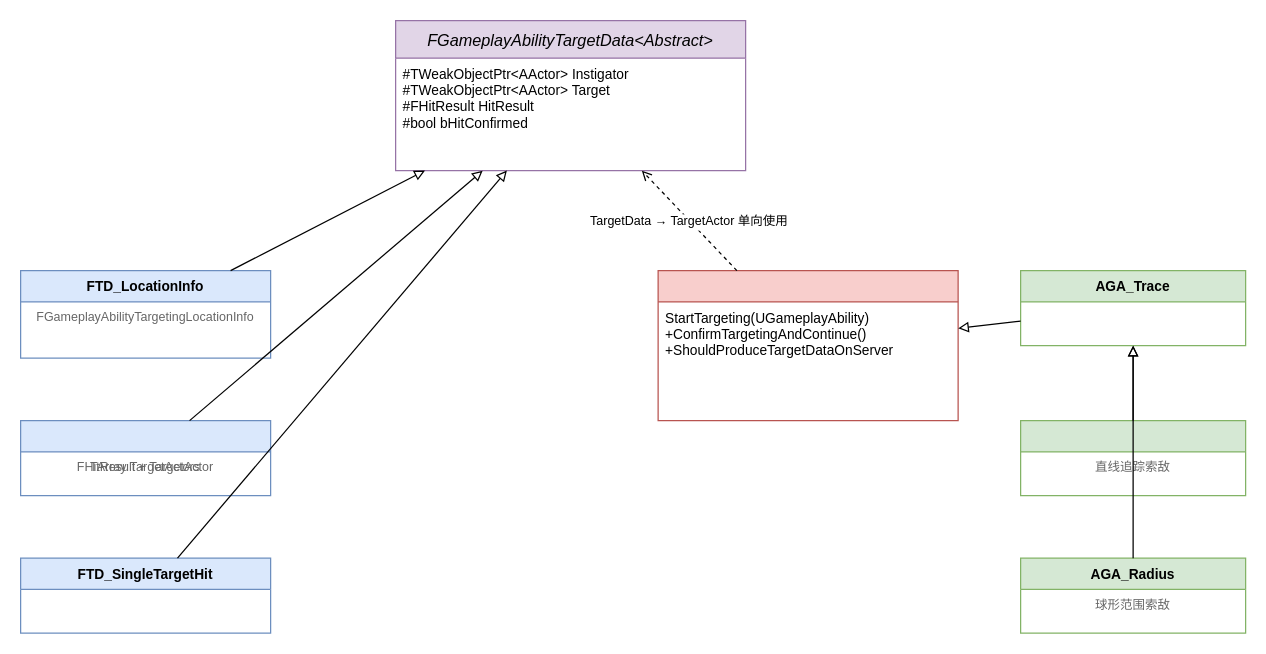
This 1266x654 diagram has some shape labels left out. Here are the shapes that lost their labels. From the top down, the box of each, then its label:
(657, 269, 958, 421): AGameplayAbilityTargetActor
(19, 419, 271, 496): FTD_ActorArray
(1019, 419, 1246, 496): AGA_SingleLineTrace
